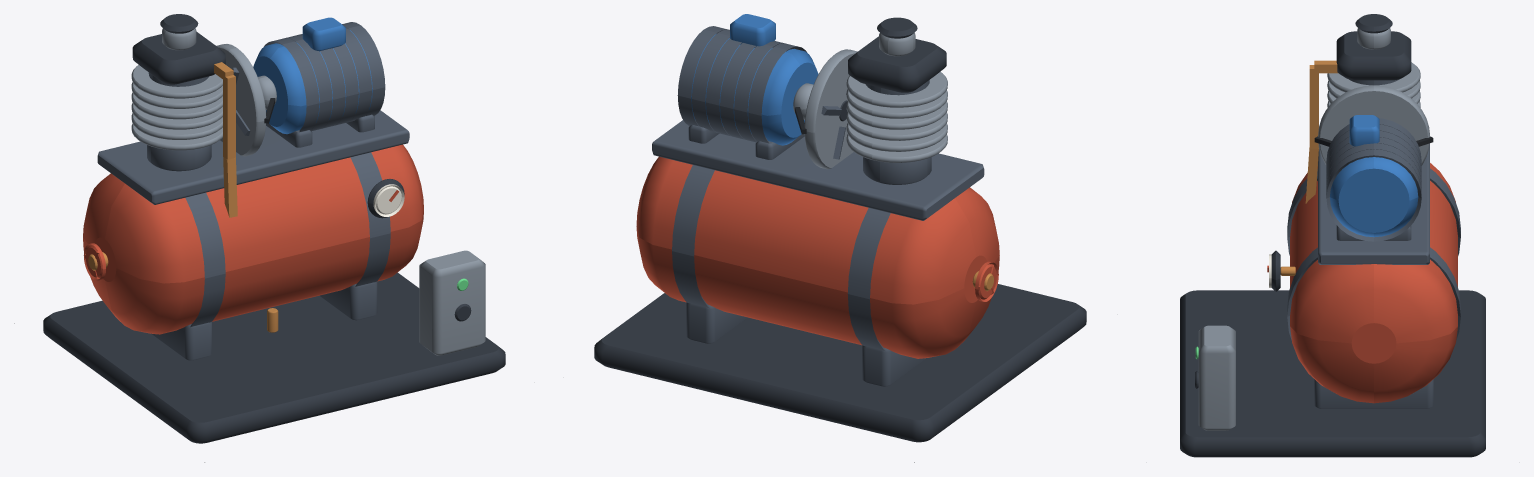
File: compresseur_air.glb
3 views of the same model, side by side, from view 1: azimuth 30°, elevation 25°; view 2: azimuth 150°, elevation 25°; view 3: azimuth 270°, elevation 25° (orthographic). The views are drawn at different scales.
Parts seen in each view (by area): view 1: pieces_av_fonce.006, pieces_av_rouge.004, pieces_av_sombre.006, pieces_av_gris.004, pieces_av_bleu.002, volant_av_gris.002, pieces_av_cuivre.002, pieces_av_cadran.002; view 2: pieces_av_rouge.004, pieces_av_fonce.006, pieces_av_sombre.006, pieces_av_gris.004, pieces_av_bleu.002, volant_av_gris.002; view 3: pieces_av_fonce.006, pieces_av_rouge.004, pieces_av_sombre.006, pieces_av_bleu.002, pieces_av_gris.004, volant_av_gris.002, pieces_av_cuivre.002.
Part boxes in pixels (x1,y1,x2,y2): pieces_av_fonce.006: [43, 14, 505, 443]; pieces_av_rouge.004: [83, 144, 423, 334]; pieces_av_sombre.006: [97, 22, 409, 360]; pieces_av_gris.004: [131, 28, 485, 355]; pieces_av_bleu.002: [253, 17, 372, 134]; volant_av_gris.002: [216, 44, 266, 156]; pieces_av_cuivre.002: [88, 62, 278, 332]; pieces_av_cadran.002: [373, 184, 404, 216]; pieces_av_rouge.004: [636, 156, 999, 358]; pieces_av_fonce.006: [594, 17, 1086, 442]; pieces_av_sombre.006: [652, 26, 984, 386]; pieces_av_gris.004: [793, 33, 947, 162]; pieces_av_bleu.002: [691, 14, 818, 145]; volant_av_gris.002: [804, 49, 857, 169]; pieces_av_fonce.006: [1180, 14, 1485, 457]; pieces_av_rouge.004: [1267, 163, 1457, 403]; pieces_av_sombre.006: [1287, 79, 1460, 408]; pieces_av_bleu.002: [1330, 115, 1418, 237]; pieces_av_gris.004: [1198, 28, 1420, 430]; volant_av_gris.002: [1318, 85, 1429, 165]; pieces_av_cuivre.002: [1280, 60, 1337, 275].
Size of the model in its own units: 1 by 0.97 by 1.
